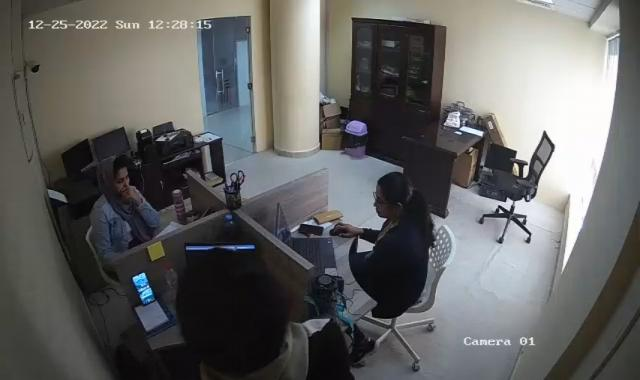no_hairnet: (181, 242, 287, 354), (370, 174, 416, 216), (98, 156, 130, 188)
